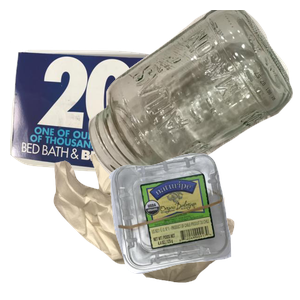glass: (86, 10, 300, 184)
paper: (10, 41, 242, 207)
plastic: (106, 151, 300, 300)
trash: (51, 142, 278, 300)
